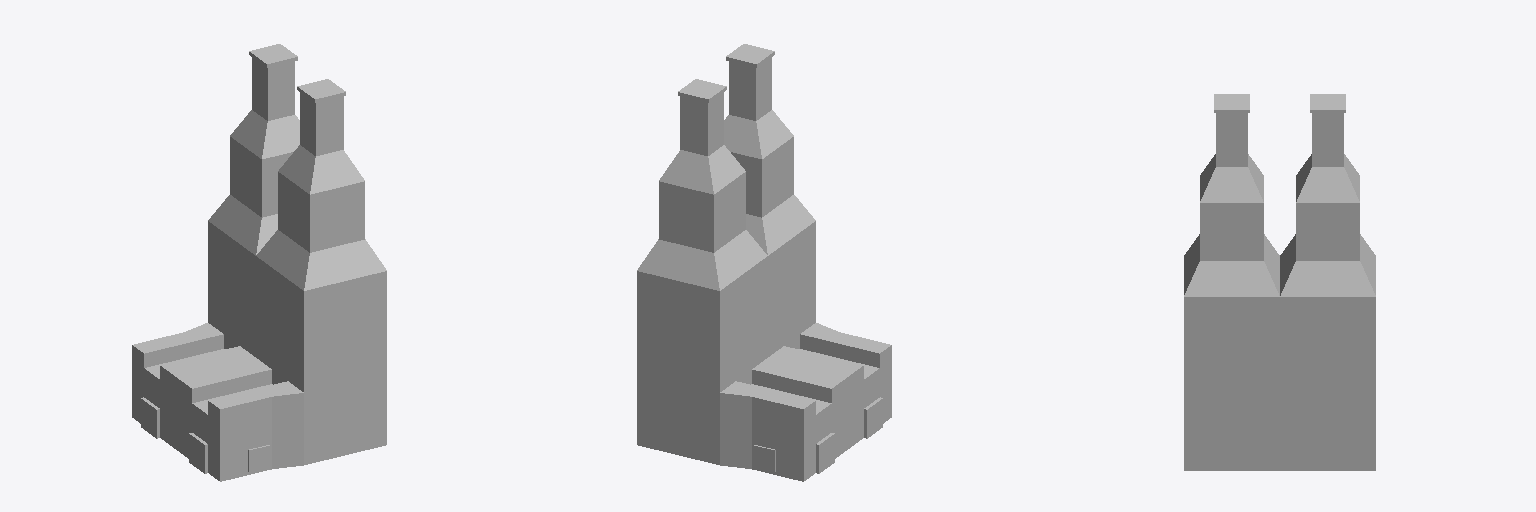
The model's file is reverberation_furnace.obj.
The picture shows the model from 3 angles: view 1: azimuth 30°, elevation 25°; view 2: azimuth 150°, elevation 25°; view 3: azimuth 270°, elevation 25°; orthographic projection.
Visible parts, largest first — view 1: reverbatory_furnace:Mesh; view 2: reverbatory_furnace:Mesh; view 3: reverbatory_furnace:Mesh.
Boxes of the visible parts, box(x1,y1,x2,y2) form: reverbatory_furnace:Mesh: box(132, 44, 386, 481); reverbatory_furnace:Mesh: box(637, 44, 891, 481); reverbatory_furnace:Mesh: box(1184, 94, 1375, 470).
Size of the model in its own units: 6 by 12 by 6.